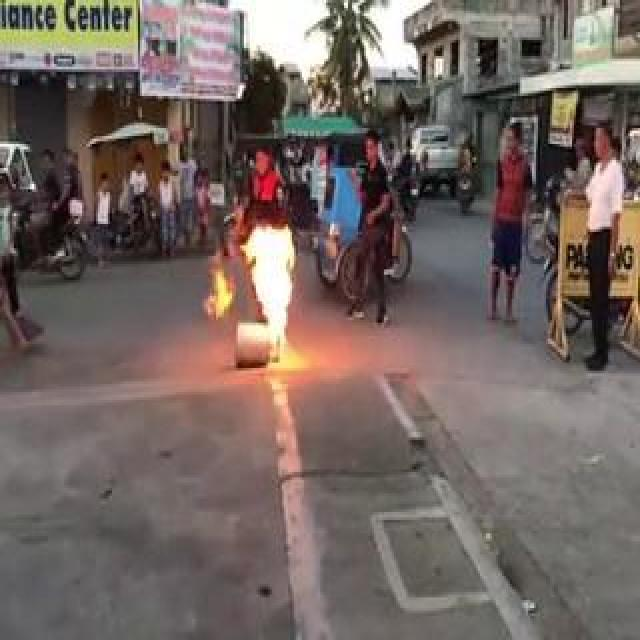Smoke: (238, 211, 294, 320)
